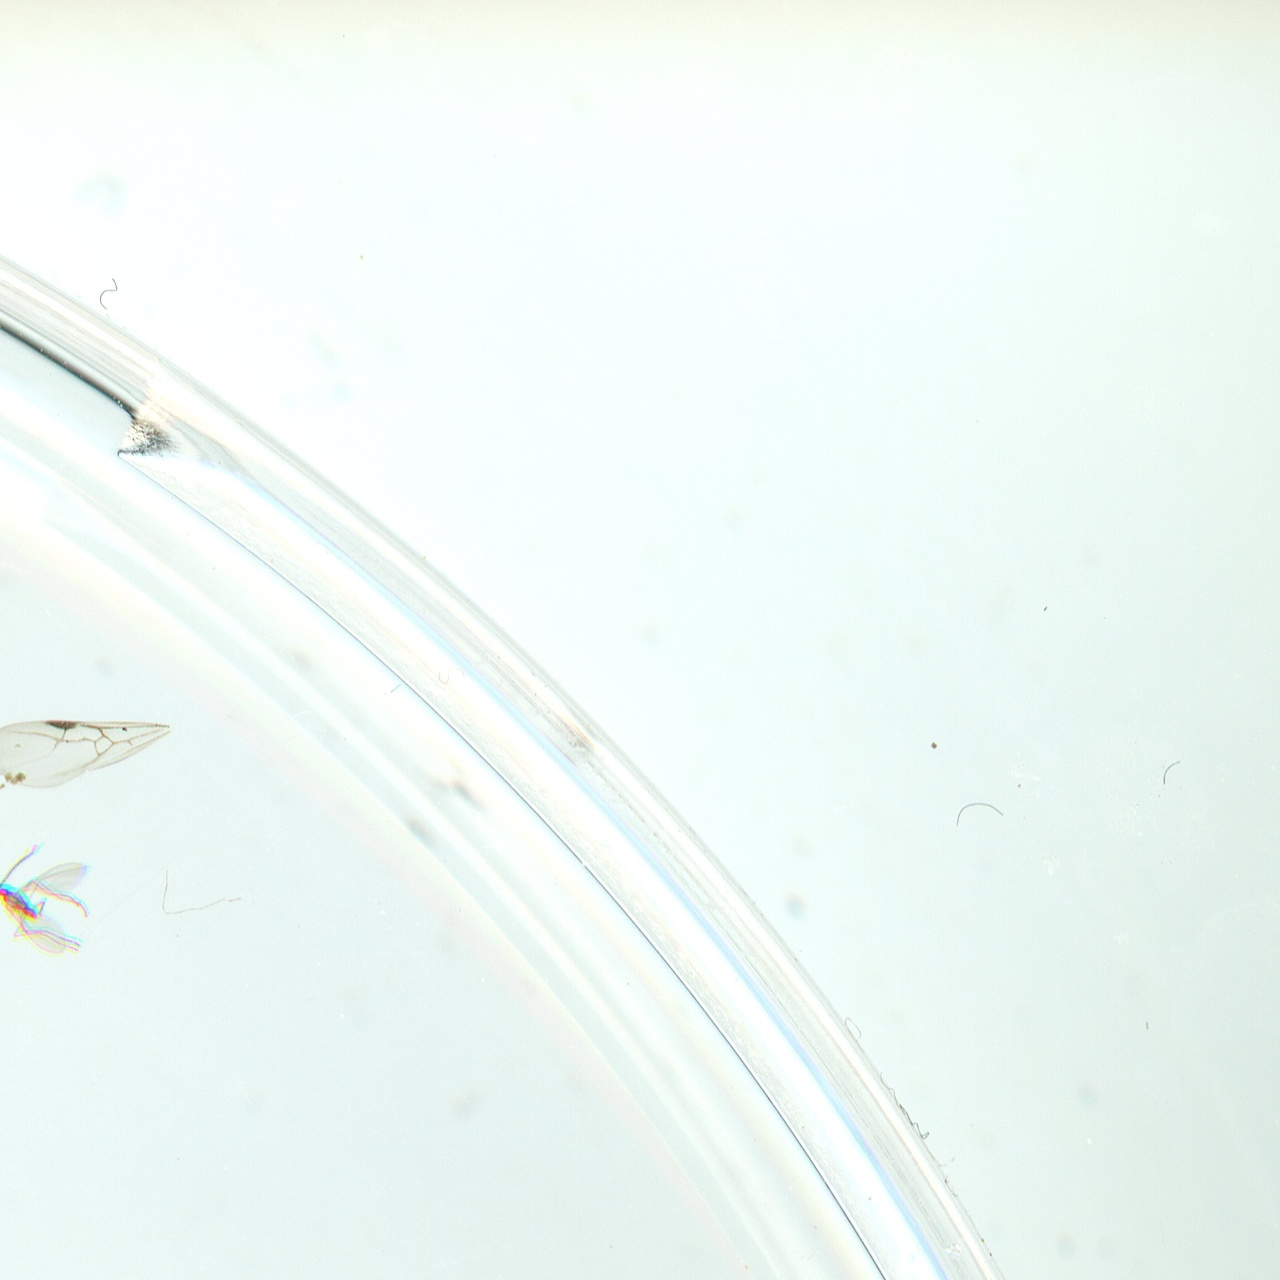arthropod: (0, 845, 89, 954)
